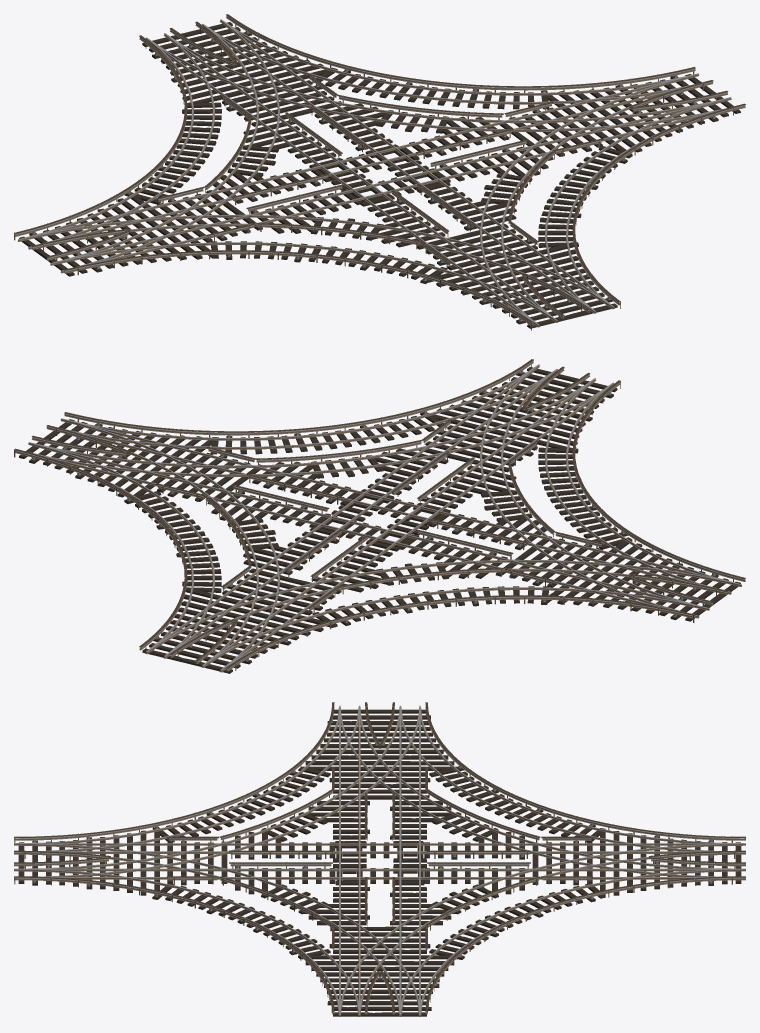
Rendered from SW_ENV_TrackJunction_EL_04.fbx.
3 renders of one model, top to bottom at view 1: azimuth 30°, elevation 25°; view 2: azimuth 150°, elevation 25°; view 3: azimuth 270°, elevation 25°, orthographic. The views are drawn at different scales.
Parts seen in each view (by area): view 1: SW_ENV_TrackJunction_EL_04; view 2: SW_ENV_TrackJunction_EL_04; view 3: SW_ENV_TrackJunction_EL_04.
Part boxes in pixels (left/top/right/bottom): SW_ENV_TrackJunction_EL_04: left=14, top=14, right=745, bottom=330; SW_ENV_TrackJunction_EL_04: left=14, top=359, right=745, bottom=673; SW_ENV_TrackJunction_EL_04: left=14, top=702, right=745, bottom=1016.
Size of the model in its own units: 5450 by 58.74 by 5450.
